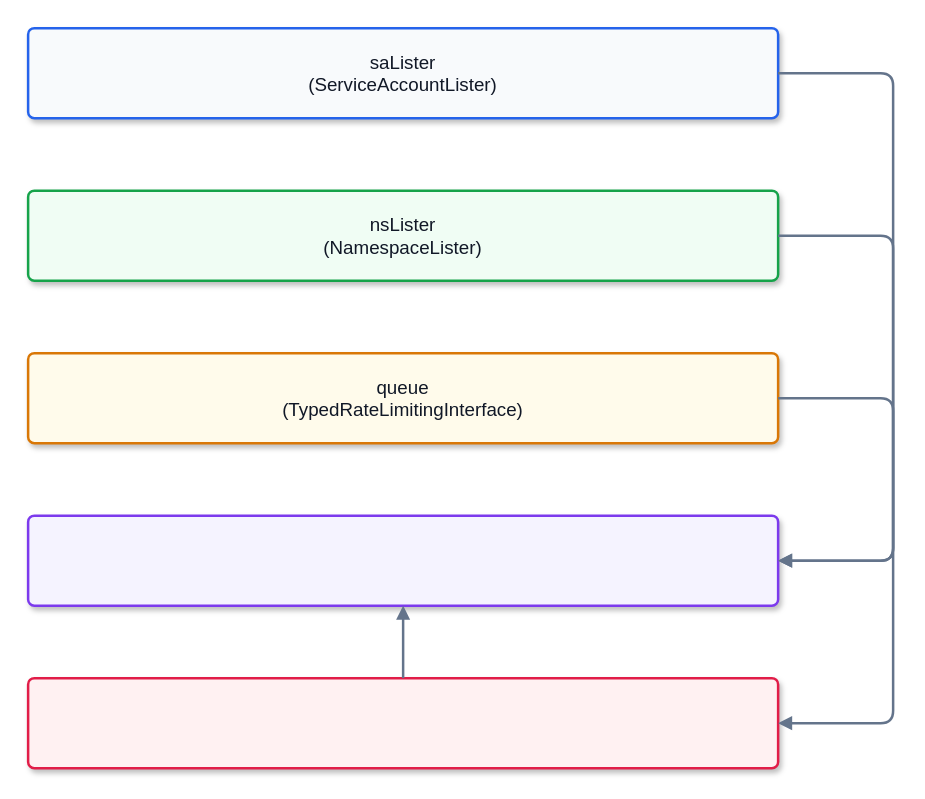
The diagram is 925 pixels wide and 799 high, and some of its shapes have lost their labels. The centre of each missing label's shape, as x and y in pixels:
syncHandler (función de reconciliación): point (403, 562)
workers (goroutines): point (403, 724)
